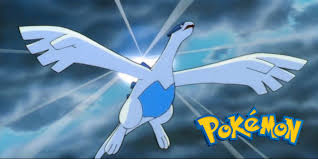lugia: (167, 21, 195, 43)
